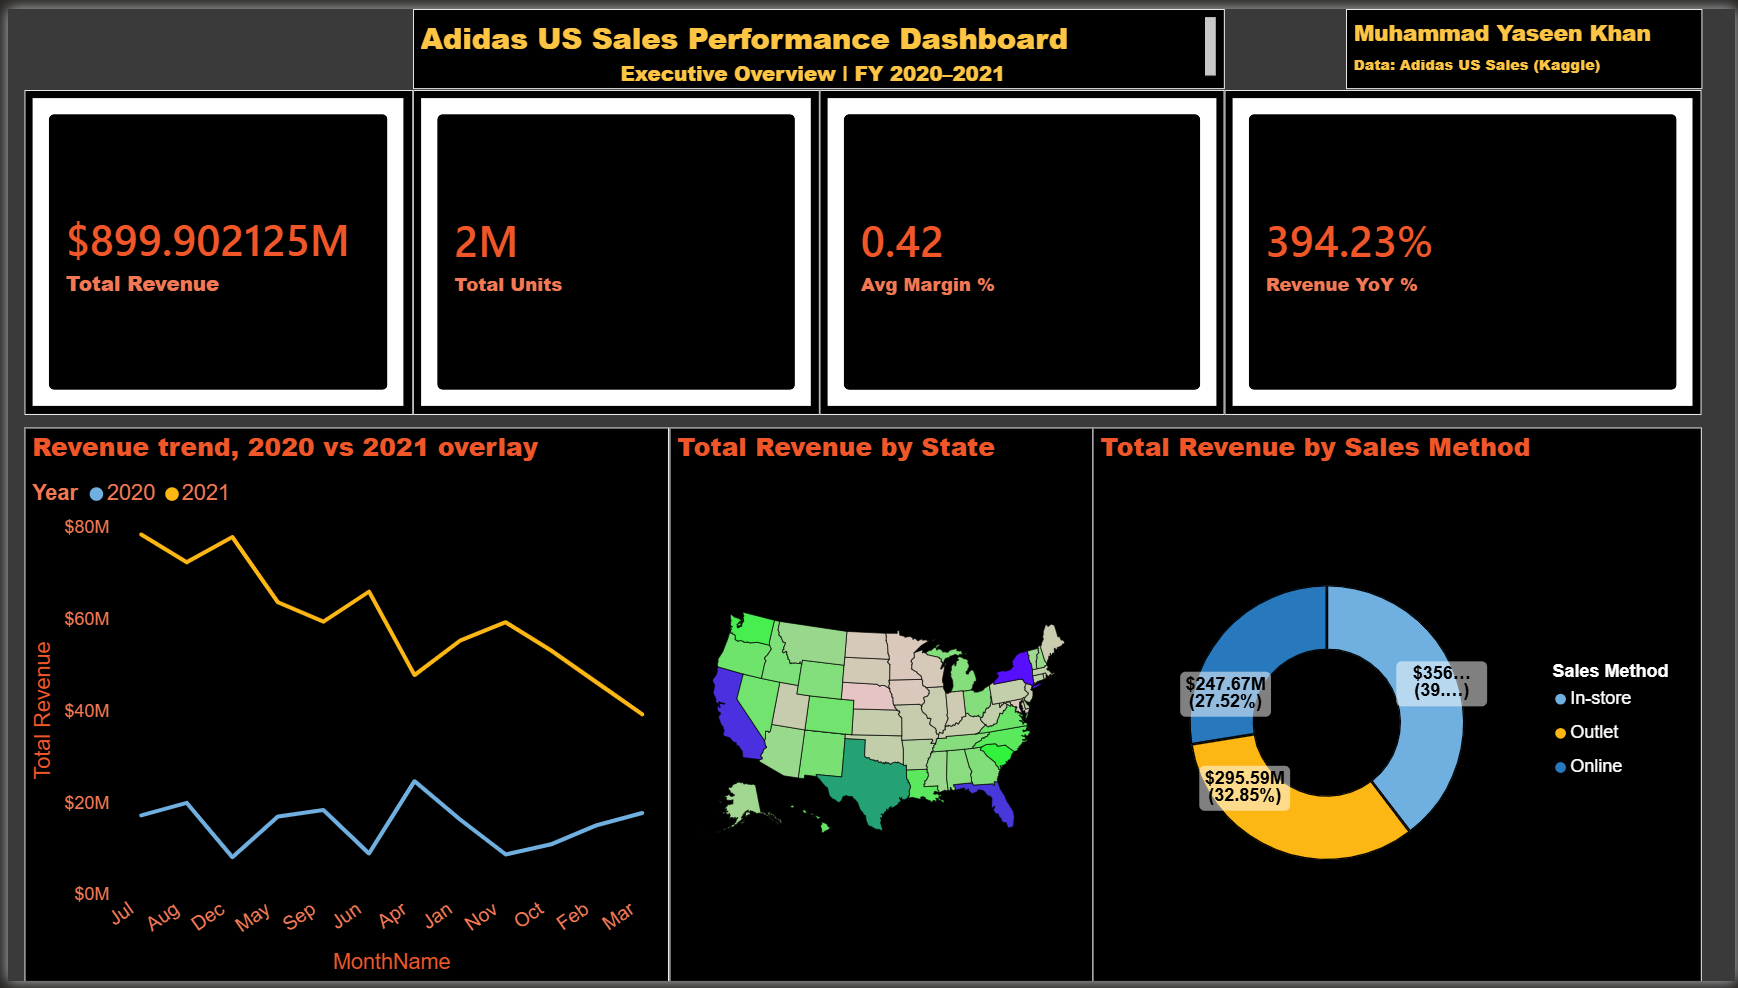

What the dashboard file says about the page in this screenshot:
{"tool":"powerbi","page":{"name":"Executive Overview","canvas":[1280,720],"ordinal":0},"visuals":[{"type":"cardVisual","fields":{"Data":["_Measures.Total Units"]},"box":[300.1,59.6,301.1,240.5],"z":1000},{"type":"cardVisual","fields":{"Data":["_Measures.Avg Margin %"]},"box":[601.2,59.6,300.1,240.5],"z":2000},{"type":"cardVisual","fields":{"Data":["_Measures.Revenue YoY %"]},"box":[901.2,59.6,353.5,240.5],"z":3000},{"type":"lineChart","title":"Revenue trend, 2020 vs 2021 overlay","fields":{"Category":["Date.MonthName"],"Y":["_Measures.Total Revenue"],"Series":["Date.Year"]},"box":[12.5,309.8,477.1,410.6],"z":4000},{"type":"shapeMap","fields":{"Category":["Data Sales Adidas.State"],"Value":["_Measures.Total Revenue"]},"box":[489.6,309.8,313.9,410.6],"z":5000},{"type":"donutChart","fields":{"Category":["Data Sales Adidas.Sales Method"],"Y":["_Measures.Total Revenue"]},"box":[803.5,309.8,451.1,410.6],"z":6000},{"type":"cardVisual","fields":{"Data":["_Measures.Total Revenue"]},"box":[12.3,59.6,287.7,240.5],"z":8001},{"type":"textbox","box":[300.1,0,601.2,59.6],"z":8002},{"type":"textbox","box":[990.6,0,264.1,59.6],"z":8003}]}

Visuals, with their boxes in screenshot pixels (x1, y1, x2, y2), scaled from the page's 1280x720 canvas onto the 1738x988 screenshot:
cardVisual - _Measures.Total Units: select_region(407, 82, 816, 412)
cardVisual - _Measures.Avg Margin %: select_region(816, 82, 1224, 412)
cardVisual - _Measures.Revenue YoY %: select_region(1224, 82, 1704, 412)
"Revenue trend, 2020 vs 2021 overlay" lineChart: select_region(17, 425, 665, 987)
shapeMap - Data Sales Adidas.State x _Measures.Total Revenue: select_region(665, 425, 1091, 987)
donutChart - Data Sales Adidas.Sales Method x _Measures.Total Revenue: select_region(1091, 425, 1704, 987)
cardVisual - _Measures.Total Revenue: select_region(17, 82, 407, 412)
textbox: select_region(407, 0, 1224, 82)
textbox: select_region(1345, 0, 1704, 82)
